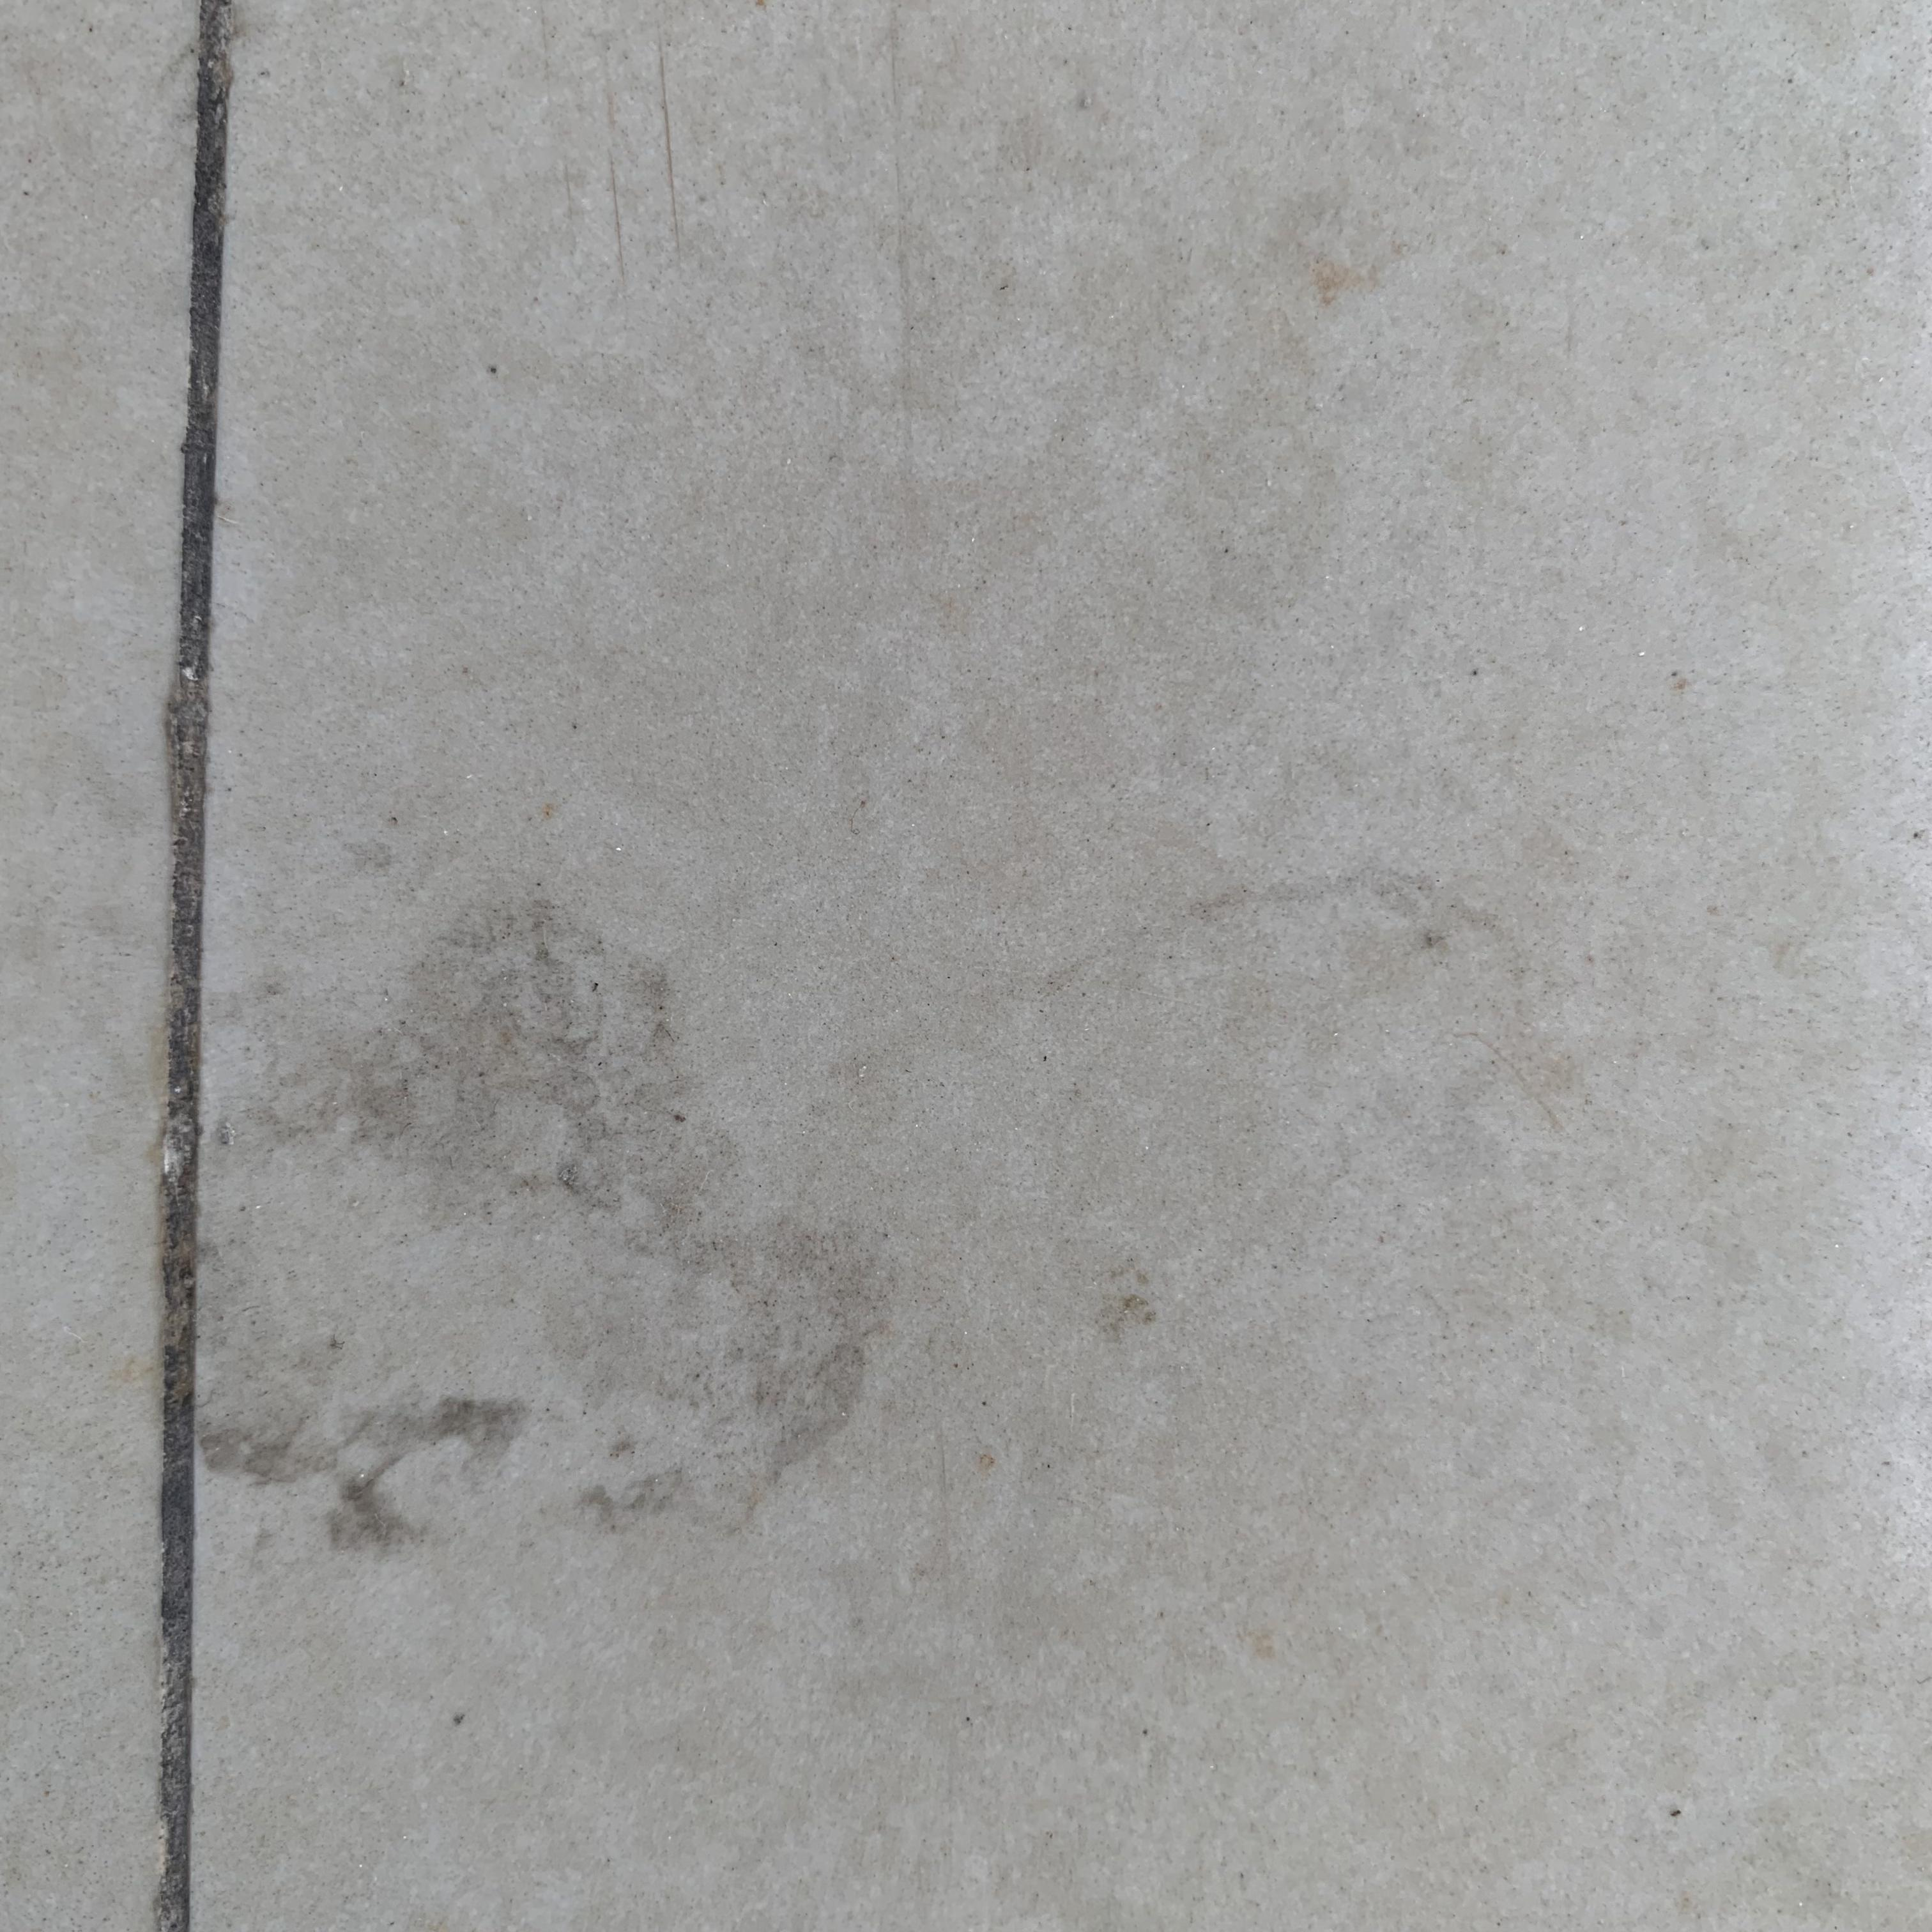grey spot: (196, 893, 899, 1560)
